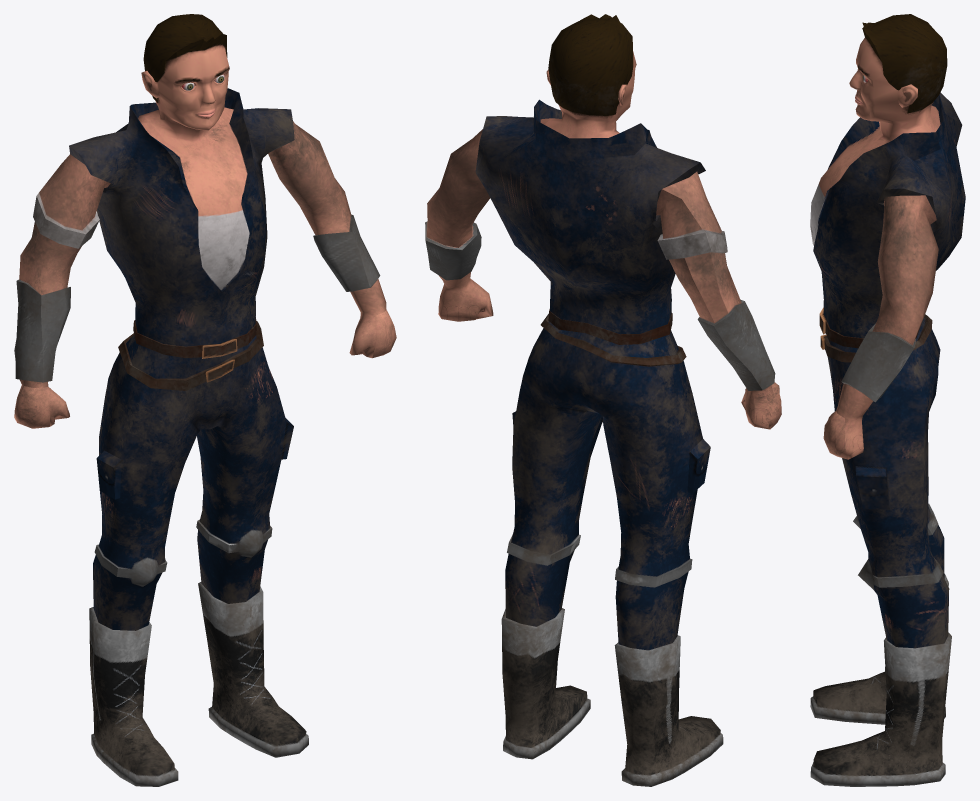
File: Anim_idle_jugador.0036.obj
3 views of the same model, side by side, from view 1: azimuth 30°, elevation 25°; view 2: azimuth 150°, elevation 25°; view 3: azimuth 270°, elevation 25° (orthographic).
Visible parts, largest first — view 1: polySurface1; view 2: polySurface1; view 3: polySurface1.
Part boxes in pixels (x1,y1,x2,y2): polySurface1: [14, 14, 396, 786]; polySurface1: [425, 14, 781, 786]; polySurface1: [810, 14, 965, 786].
Bounding box in the file's own units: 4.96 × 9.64 × 1.86.
